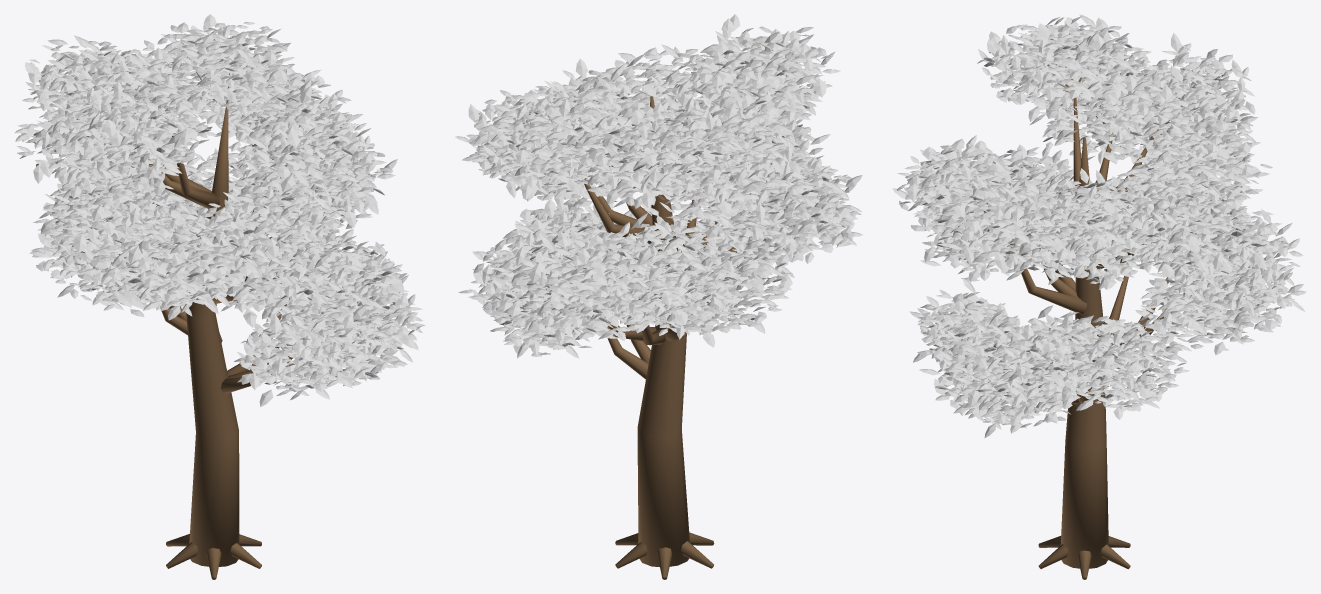
File: tree-1.glb
3 views of the same model, side by side, from view 1: azimuth 30°, elevation 25°; view 2: azimuth 150°, elevation 25°; view 3: azimuth 270°, elevation 25° (orthographic). The views are drawn at different scales.
Visible parts, largest first — view 1: tree-1 export; view 2: tree-1 export; view 3: tree-1 export.
Boxes of the visible parts, box(x1,y1,x2,y2) form: tree-1 export: box(14, 14, 425, 579); tree-1 export: box(455, 14, 862, 579); tree-1 export: box(892, 14, 1306, 579).
Bounding box in the file's own units: 7.86 × 11.75 × 8.83.
